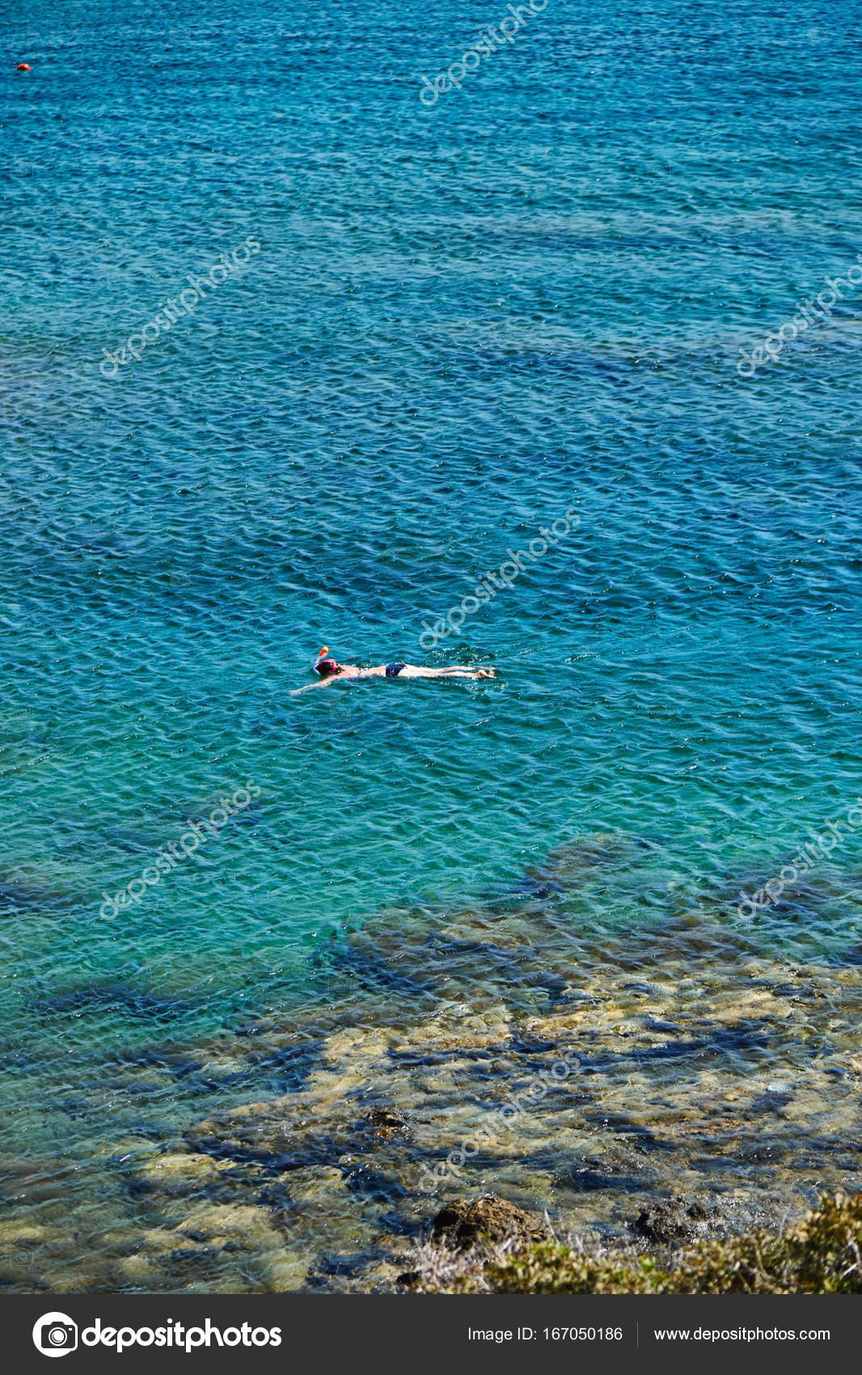swimmer: (307, 634, 496, 692)
